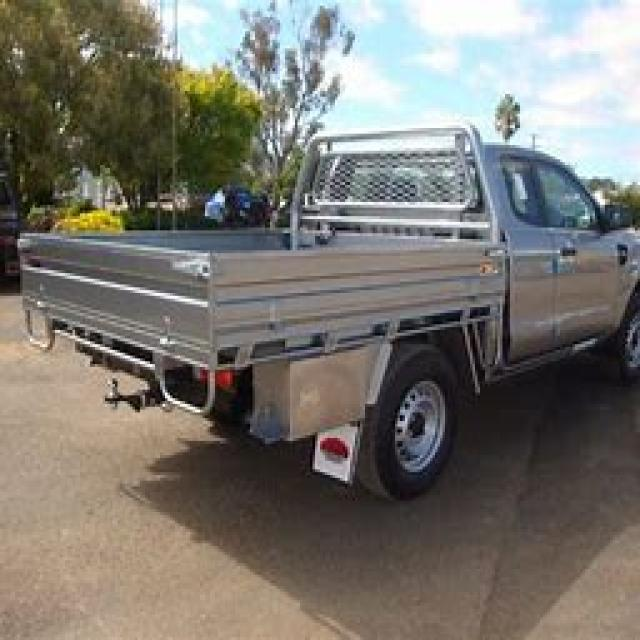light_vehicle: (18, 108, 638, 501)
